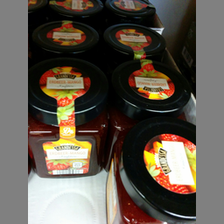jam: (107, 117, 195, 224), (29, 60, 107, 179)
